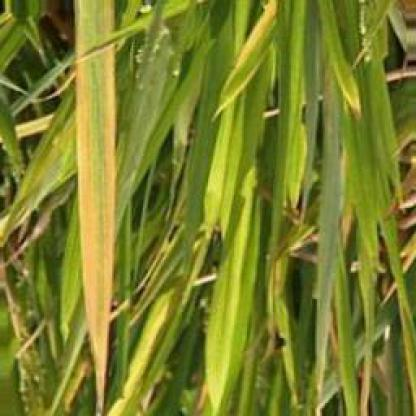Tungro: (188, 130, 269, 416), (76, 5, 118, 416), (211, 3, 294, 122), (111, 313, 188, 416)
